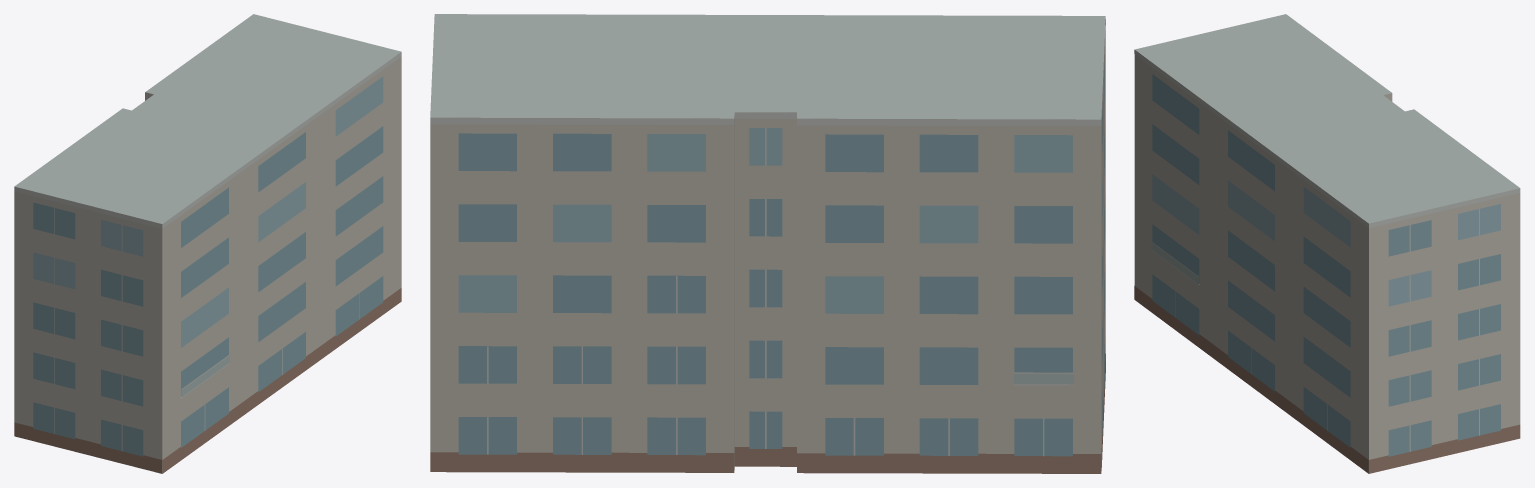
The model's file is survey-upis-32670962.glb.
3 views of the same model, side by side, from view 1: azimuth 30°, elevation 25°; view 2: azimuth 150°, elevation 25°; view 3: azimuth 270°, elevation 25° (orthographic). The views are drawn at different scales.
Visible parts, largest first — view 1: survey-upis-32670962.tmp; view 2: survey-upis-32670962.tmp; view 3: survey-upis-32670962.tmp.
Boxes of the visible parts, left/top/right/bottom form: survey-upis-32670962.tmp: left=14, top=14, right=401, bottom=473; survey-upis-32670962.tmp: left=430, top=14, right=1105, bottom=473; survey-upis-32670962.tmp: left=1134, top=14, right=1520, bottom=473.
Size of the model in its own units: 23.72 by 13.2 by 18.45.
